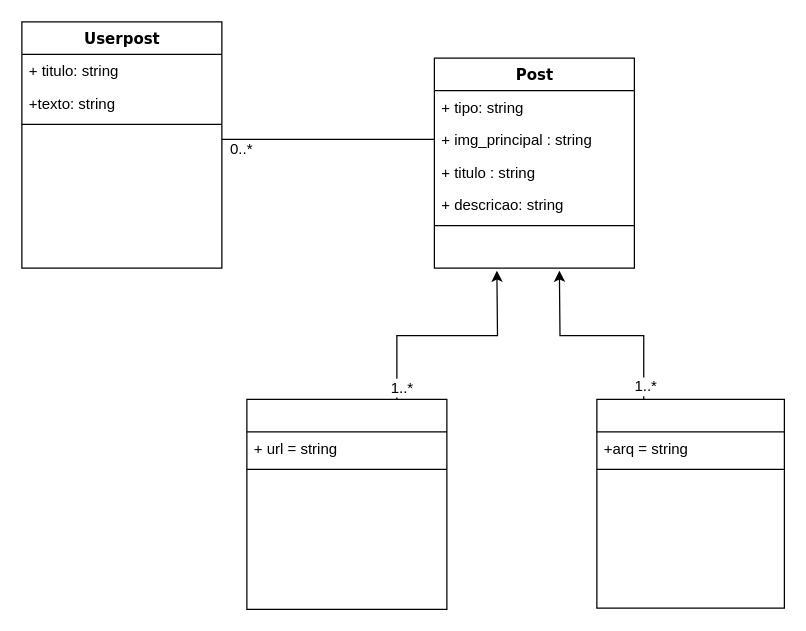
This 806x631 diagram has some shape labels left out. The shapes that lost their labels are listed below. From the top down, each one's box as (x1, y1, x2, y2) in pixels, then its label:
(246, 398, 447, 609): Link
(596, 398, 784, 608): Arquivo
